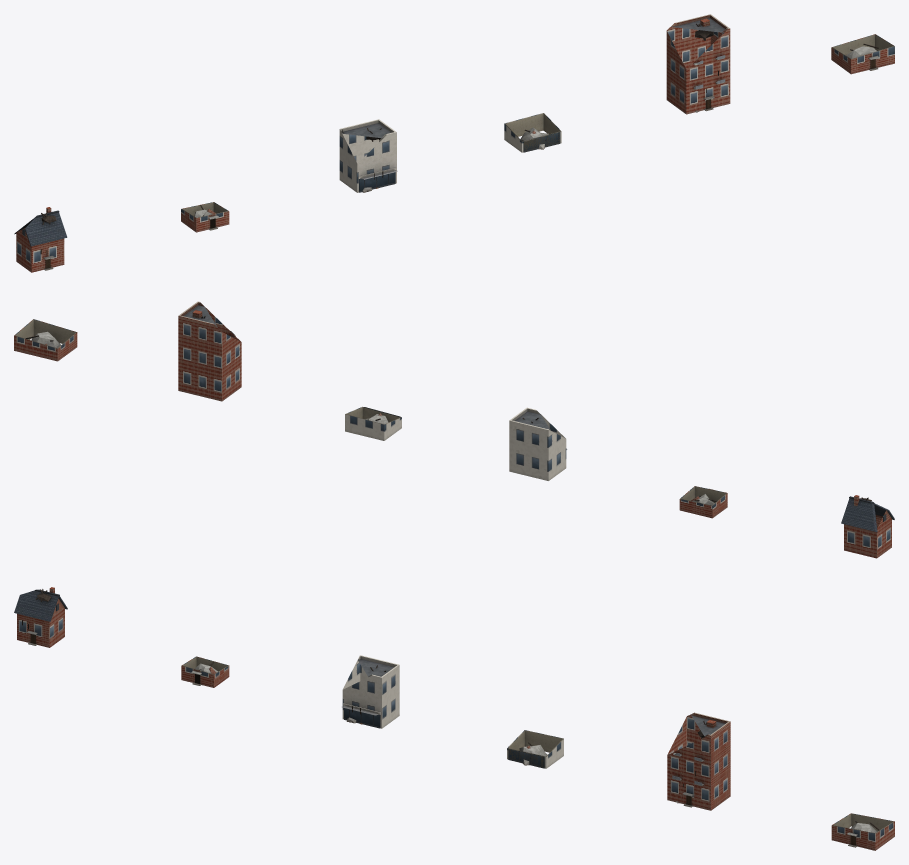
Rendered from modern-houses-damage.glb.
The picture shows the model from 3 angles, top to bottom: view 1: azimuth 30°, elevation 25°; view 2: azimuth 150°, elevation 25°; view 3: azimuth 330°, elevation 25°; orthographic projection.
Parts seen in each view (by area): view 1: LOD0.004, LOD0.002, LOD0, LOD0.005, LOD0.003, LOD0.001; view 2: LOD0.004, LOD0.002, LOD0, LOD0.005, LOD0.003, LOD0.001; view 3: LOD0.004, LOD0.002, LOD0, LOD0.005, LOD0.003, LOD0.001.
Part boxes in pixels (x1,y1,x2,y2): LOD0.004: (666, 14, 730, 114); LOD0.002: (339, 119, 397, 192); LOD0: (14, 207, 67, 272); LOD0.005: (831, 34, 894, 74); LOD0.003: (504, 113, 561, 152); LOD0.001: (181, 202, 229, 232); LOD0.004: (178, 301, 241, 401); LOD0.002: (509, 407, 567, 480); LOD0: (841, 495, 894, 558); LOD0.005: (14, 319, 77, 361); LOD0.003: (345, 406, 401, 440); LOD0.001: (679, 486, 727, 518); LOD0.004: (667, 712, 730, 810); LOD0.002: (342, 655, 399, 728); LOD0: (14, 587, 67, 647); LOD0.005: (831, 813, 894, 850); LOD0.003: (507, 730, 563, 768); LOD0.001: (181, 656, 229, 687).
Size of what is drawn, in the model's own units: 15.73 by 1.34 by 0.685.
2 materials, 2 textured.
